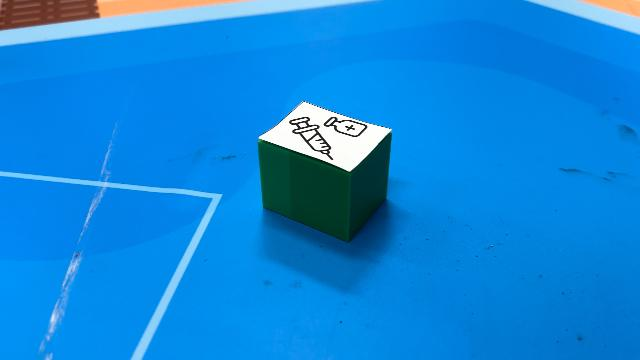syringe: (260, 100, 394, 244)
